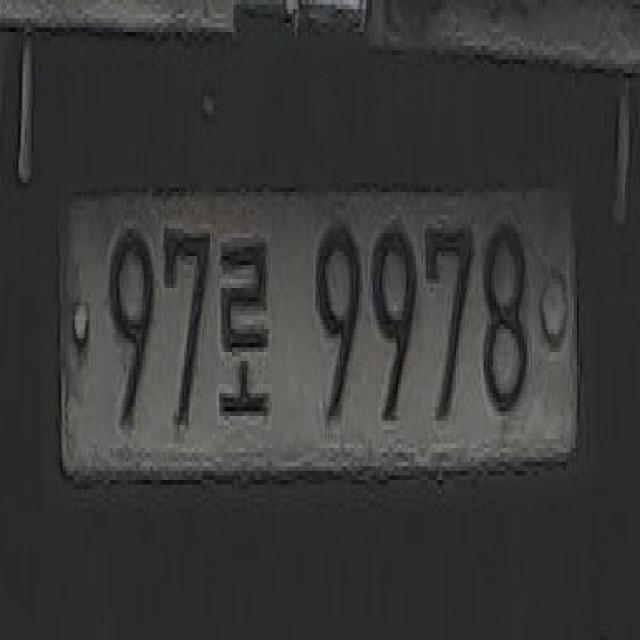7: (160, 212, 212, 439), (423, 215, 473, 430)
8: (480, 210, 532, 422)
9: (104, 215, 156, 443), (367, 211, 419, 436), (312, 209, 362, 432)
license_plate: (63, 184, 579, 489)
lo: (216, 222, 274, 436)
